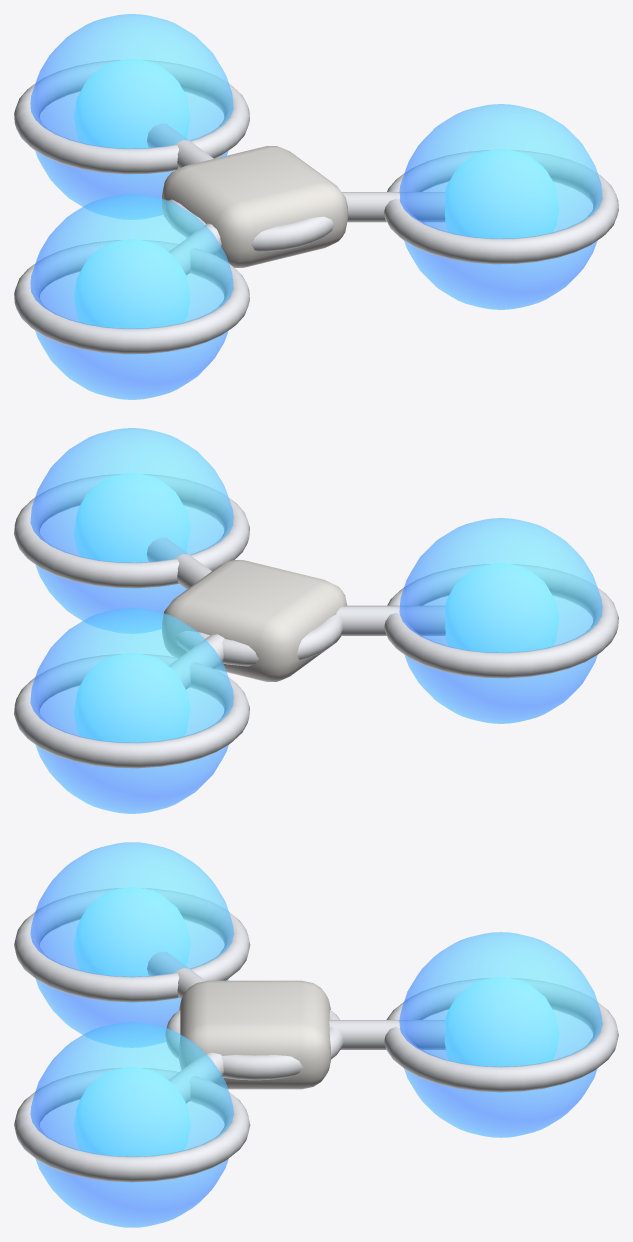
Rendered from clear_dots.glb.
3 views of the same model, one above another, from view 1: azimuth 30°, elevation 25°; view 2: azimuth 150°, elevation 25°; view 3: azimuth 270°, elevation 25° (orthographic).
Visible parts, largest first — view 1: clear_dots; view 2: clear_dots; view 3: clear_dots.
Part boxes in pixels (box(x1,y1,x2,y2)): clear_dots: box(14, 14, 618, 399); clear_dots: box(14, 428, 618, 813); clear_dots: box(14, 842, 618, 1227).
Size of the model in its own units: 0.5657 by 0.176 by 0.517.
